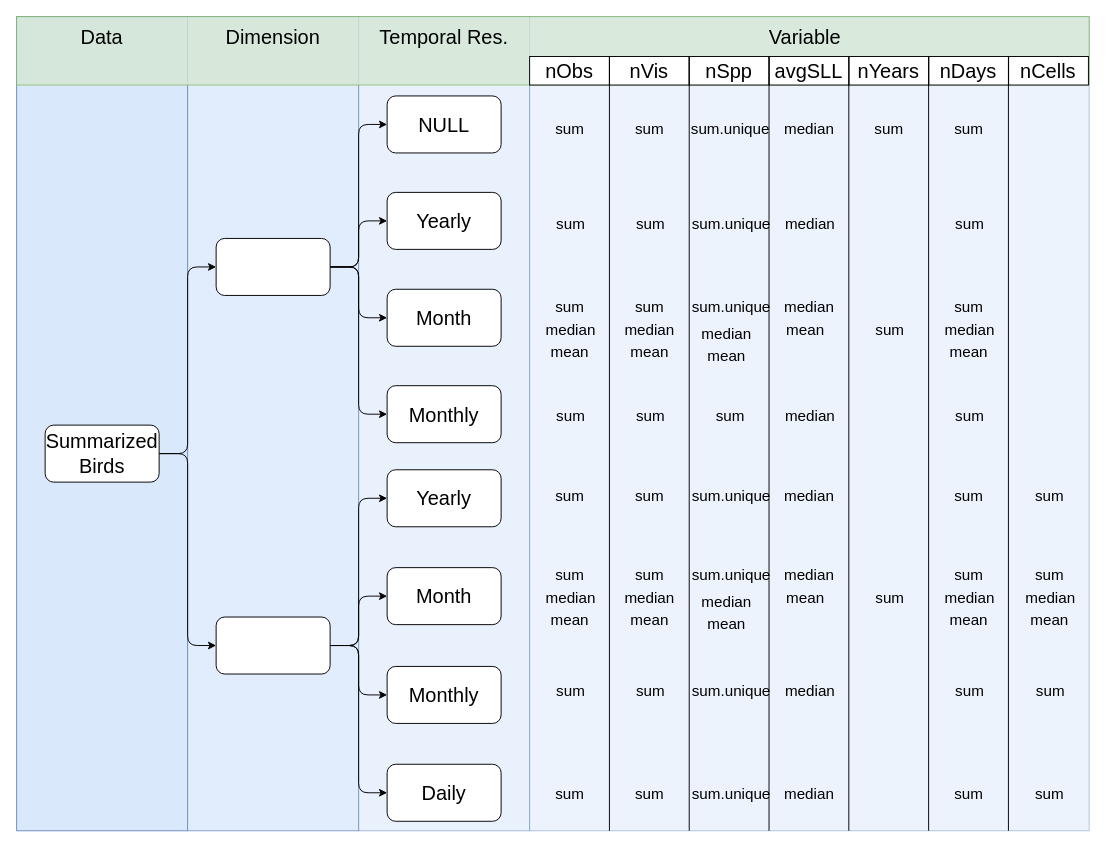
The diagram is 1106 pixels wide and 847 high, and some of its shapes have lost their labels. The centre of each missing label's shape, as x and y in pixels:
Spatial: (x=272, y=266)
Temporal: (x=272, y=645)
